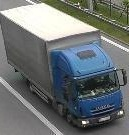truck: (0, 3, 128, 130)
